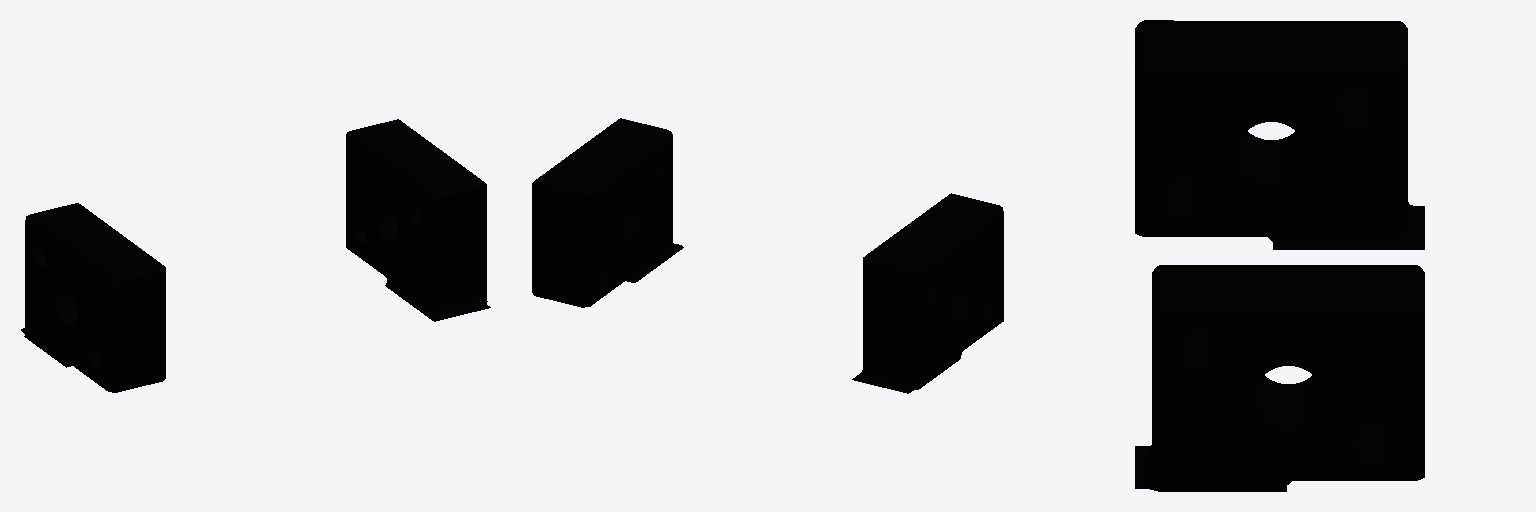
URDF robot description (schunk-egp-40):
<robot name="schunk-egp-40" xmlns:controller="http://playerstage.sourceforge.net/gazebo/xmlschema/#controller" xmlns:interface="http://playerstage.sourceforge.net/gazebo/xmlschema/#interface" xmlns:sensor="http://playerstage.sourceforge.net/gazebo/xmlschema/#sensor" xmlns:xacro="http://www.ros.org/wiki/xacro">
    <!-- Base -->
    <link name="SchunkEGP40_link">
        <inertial>
            <mass value="1.0" />
            <origin rpy="0 0 0" xyz="0 0 0" />
            <inertia ixx="0.75086944724" ixy="0" ixz="0" iyy="0.76026106805" iyz="0" izz="0.01059046669" />
        </inertial>
        <visual>
            <origin rpy="0 0 0" xyz="0 0 0" />
            <geometry>
                <mesh filename="model://schunk-egp-40/meshes/schunk-egp-40.dae" scale="1 1 1" />
            </geometry>
            <material name="Orange" />
        </visual>
        <collision>
            <origin rpy="0 0 0" xyz="0 0 0" />
            <geometry>
                <mesh filename="model://schunk-egp-40/meshes/schunk-egp-40-collision.dae" scale="1 1 1" />
            </geometry>
        </collision>
    </link>

    <!-- Finger 1 -->
    <link name="SchunkEGP40_Finger1_link">
        <inertial>
            <mass value="1.0" />
            <origin rpy="0 0 0" xyz="0 0 0" />
            <inertia ixx="0.75086944724" ixy="0" ixz="0" iyy="0.76026106805" iyz="0" izz="0.01059046669" />
        </inertial>
        <visual>
            <origin rpy="0 0 0" xyz="0 0 0" />
            <geometry>
                <mesh filename="model://schunk-egp-40/meshes/schunk-egp-40-finger-base.dae" scale="1 1 1" />
            </geometry>
            <material name="Orange" />
        </visual>
        <collision>
            <origin rpy="0 0 0" xyz="0 0.0005 0.006075" />
            <geometry>
                <box size="0.006 0.016 0.01215" />
            </geometry>
        </collision>
    </link>

    <!-- Finger 2 -->
    <link name="SchunkEGP40_Finger2_link">
        <inertial>
            <mass value="1.0" />
            <origin rpy="0 0 0" xyz="0 0 0" />
            <inertia ixx="0.75086944724" ixy="0" ixz="0" iyy="0.76026106805" iyz="0" izz="0.01059046669" />
        </inertial>
        <visual>
            <origin rpy="0 0 0" xyz="0 0 0" />
            <geometry>
                <mesh filename="model://schunk-egp-40/meshes/schunk-egp-40-finger-base.dae" scale="1 1 1" />
            </geometry>
            <material name="Orange" />
        </visual>
        <collision>
            <origin rpy="0 0 0" xyz="0 0.0005 0.006075" />
            <geometry>
                <box size="0.006 0.016 0.01215" />
            </geometry>
        </collision>
    </link>

    <!-- Finger Joint 1 -->
    <joint name="SchunkEGP40_Finger1_joint" type="prismatic">
        <origin xyz="0.016800 0.000500 0.108000" rpy="0 0 0" />
        <axis xyz="-1 0 0" />
        <limit effort="1" lower="0" upper="0.01" velocity="-1" />
        <dynamics damping="1.0" />
        <parent link="SchunkEGP40_link" />
        <child link="SchunkEGP40_Finger1_link" />
    </joint>
    <gazebo reference="SchunkEGP40_Finger1_joint">
        <provideFeedback>1</provideFeedback>
        <implicitSpringDamper>1</implicitSpringDamper>
    </gazebo>
    
    <!-- Finger Joint 2 -->
    <joint name="SchunkEGP40_Finger2_joint" type="prismatic">
        <origin xyz="-0.016800 0.000500 0.108000" rpy="0 0 3.14" />
        <axis xyz="-1 0 0" />
        <limit effort="1" lower="0" upper="0.01" velocity="-1" />
        <dynamics damping="1.0" />
        <parent link="SchunkEGP40_link" />
        <child link="SchunkEGP40_Finger2_link" />
    </joint>
    <gazebo reference="SchunkEGP40_Finger2_joint">
        <provideFeedback>1</provideFeedback>
        <implicitSpringDamper>1</implicitSpringDamper>
    </gazebo>
    
</robot>

--- Facts derived from the render (not from the file) ---
Views: 3 orthographic renders of the robot side by side, from view 1: azimuth 30°, elevation 25°; view 2: azimuth 150°, elevation 25°; view 3: azimuth 270°, elevation 25°.
Robot: schunk-egp-40 — 3 links, 2 joints (2 prismatic); root link SchunkEGP40_link; default pose: every joint at zero.
Visible links, largest first — view 1: SchunkEGP40_Finger1_link, SchunkEGP40_Finger2_link; view 2: SchunkEGP40_Finger2_link, SchunkEGP40_Finger1_link; view 3: SchunkEGP40_Finger2_link, SchunkEGP40_Finger1_link.
Boxes of the visible links, x1=… form: SchunkEGP40_Finger1_link: x1=346, y1=119, x2=490, y2=321; SchunkEGP40_Finger2_link: x1=21, y1=203, x2=165, y2=392; SchunkEGP40_Finger2_link: x1=852, y1=193, x2=1003, y2=393; SchunkEGP40_Finger1_link: x1=532, y1=118, x2=683, y2=307; SchunkEGP40_Finger2_link: x1=1135, y1=20, x2=1424, y2=249; SchunkEGP40_Finger1_link: x1=1135, y1=265, x2=1424, y2=491.
Bounding box of the posed robot: 0.0399 × 0.017 × 0.0121 m (x, y, z).
2 mesh visuals loaded from 2 distinct referenced files (1 Collada DAE); not drawn: 1 (reference not matched to a file when rendering).
